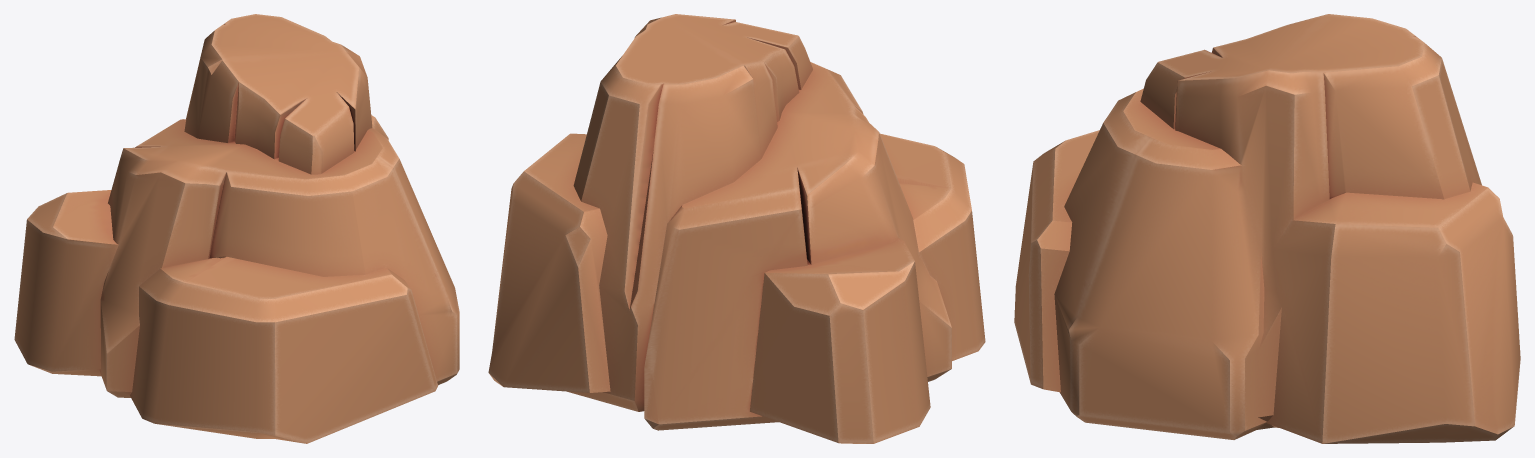
File: desert_monolith_02.glb
The picture shows the model from 3 angles, left to right: view 1: azimuth 30°, elevation 25°; view 2: azimuth 150°, elevation 25°; view 3: azimuth 270°, elevation 25°; orthographic projection. The views are drawn at different scales.
Visible parts, largest first — view 1: Rock_2_Rock_2_0; view 2: Rock_2_Rock_2_0; view 3: Rock_2_Rock_2_0.
Boxes of the visible parts, left/top/right/bottom form: Rock_2_Rock_2_0: left=14, top=14, right=459, bottom=443; Rock_2_Rock_2_0: left=488, top=14, right=985, bottom=443; Rock_2_Rock_2_0: left=1014, top=14, right=1520, bottom=443.
Size of the model in its own units: 4.66 by 3.6 by 4.8.
Materials: 1 (1 with a texture image).
